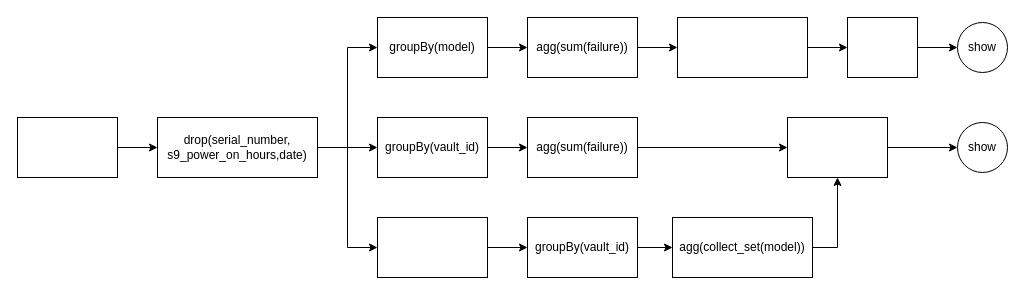
This 1025x295 diagram has some shape labels left out. Each missing label, with the centre of its shape:
filter(failure==1): (432,247)
join(on=vault_id): (837,147)
limit(10): (882,47)
orderBy(failure, desc): (742,47)
read(hdfs_path): (67,147)
